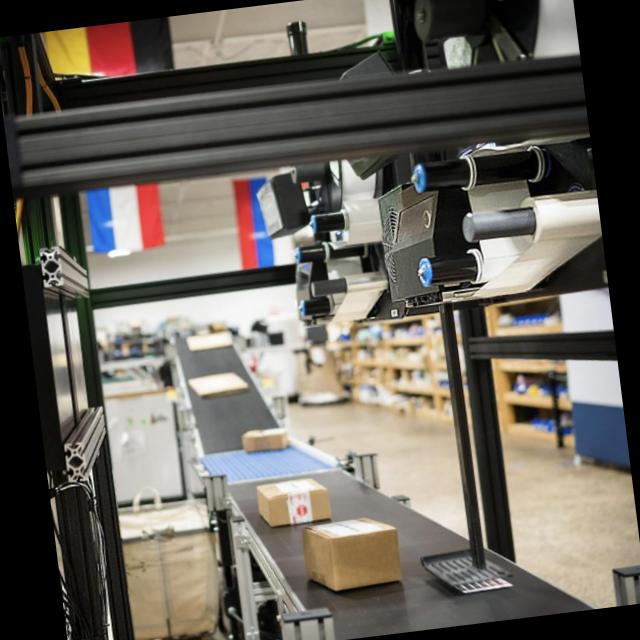box: (302, 517, 400, 590), (256, 478, 331, 526), (188, 372, 247, 397), (241, 428, 287, 451)
